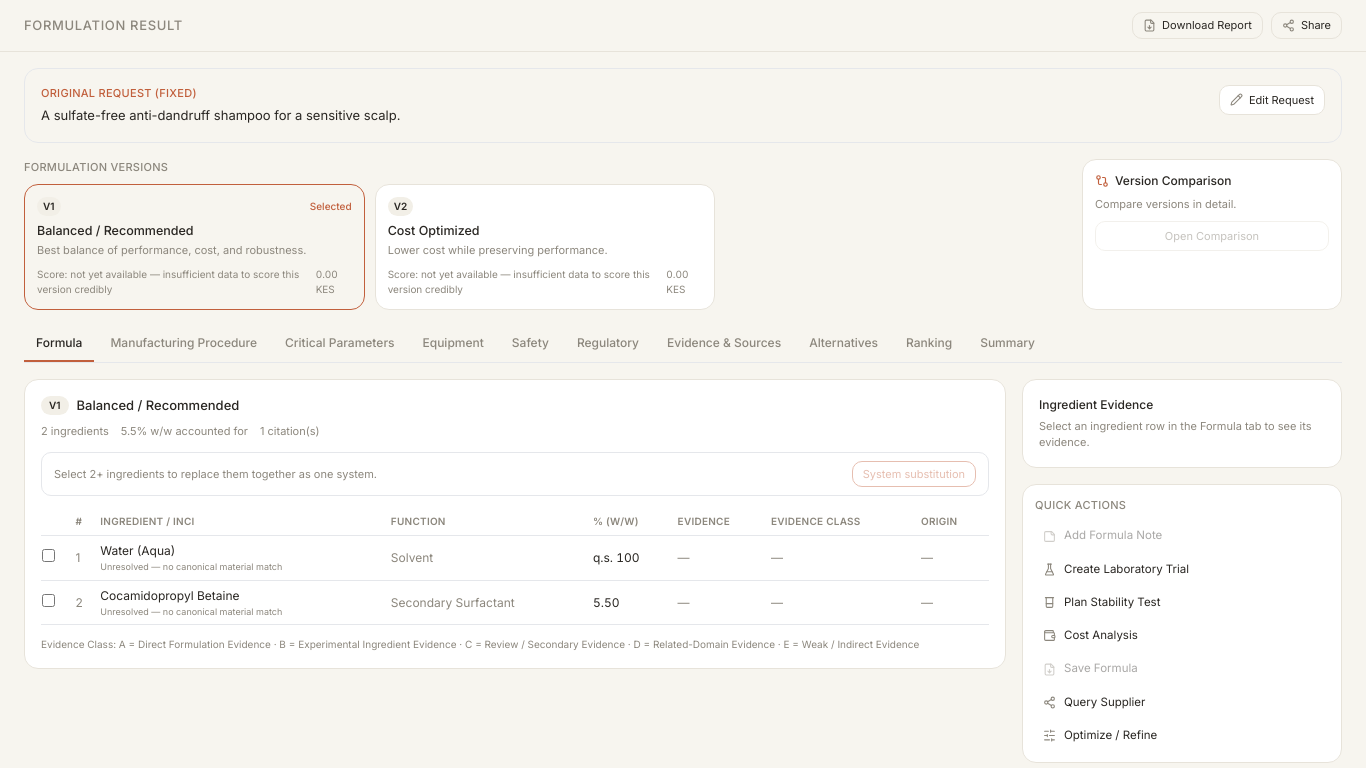
Test: FormulationResultPage › switching versions clears the previously selected ingredient's evidence context
Expected: the text "Cocamidopropyl Betaine" is shown, [100,588,240,603]
Click the cell that starts with "Cocamidopropyl Betaine": (170, 595) [99,580,390,625]
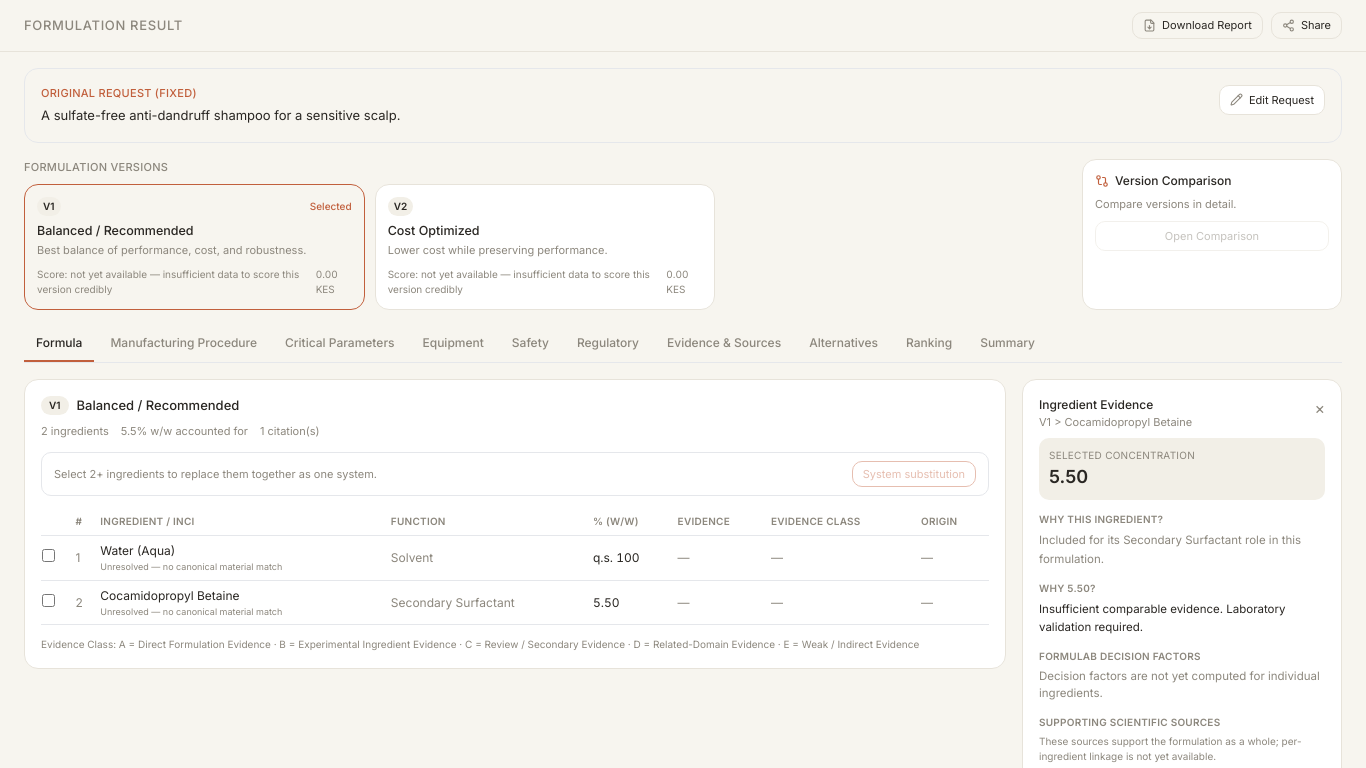
Expected: the text "Selected Concentration" is shown, [1049,449,1195,461]
Click the text "Cost Optimized": (434, 230) [388,223,480,238]
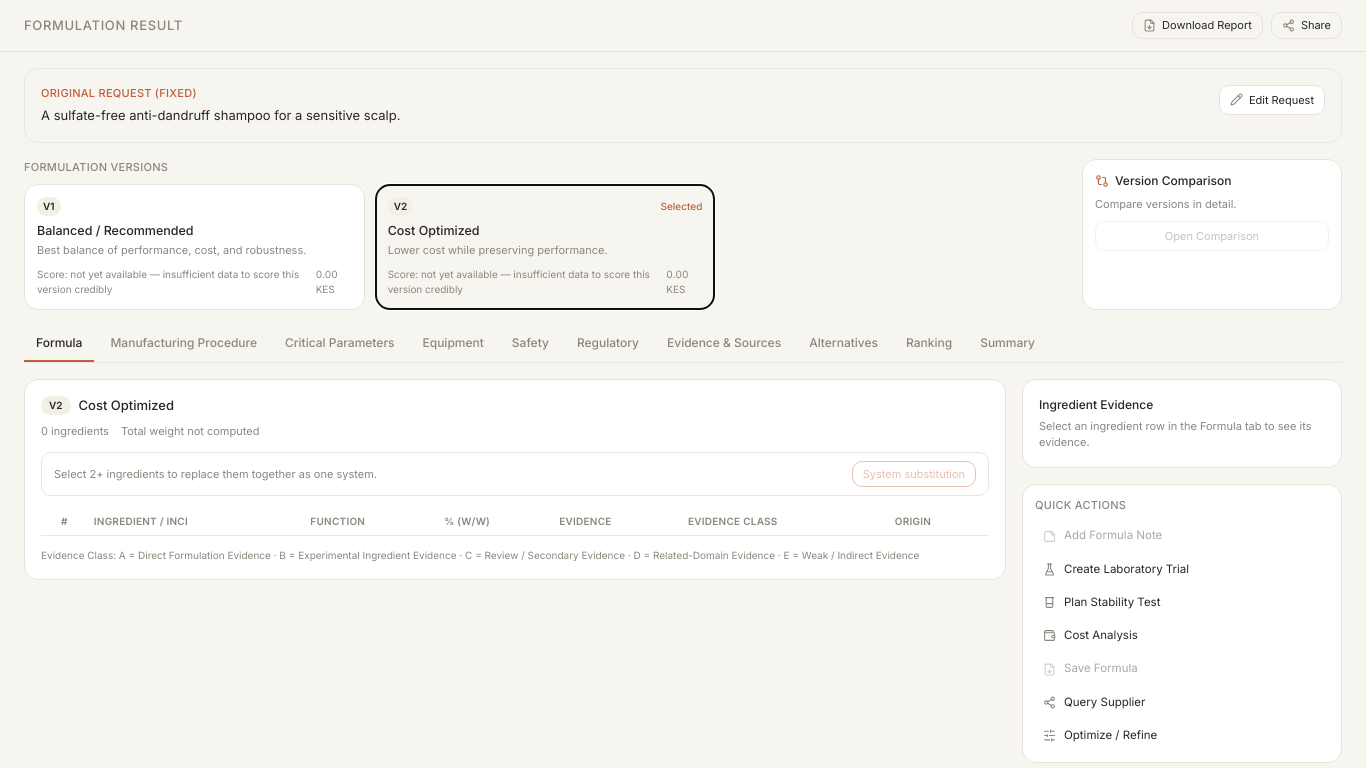
Expected: the text "Selected Concentration" is gone
